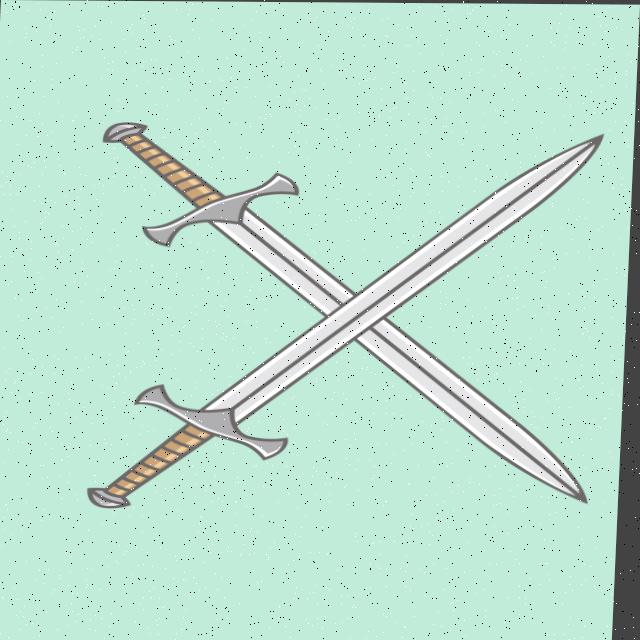knife: (92, 130, 608, 514)
